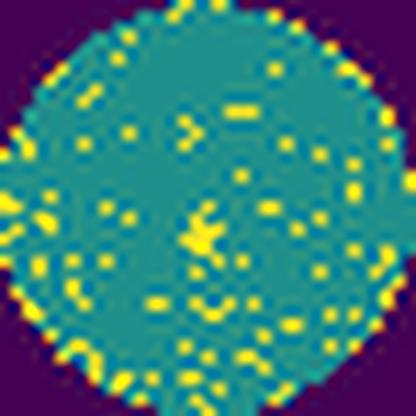Center: (177, 195, 229, 264)
